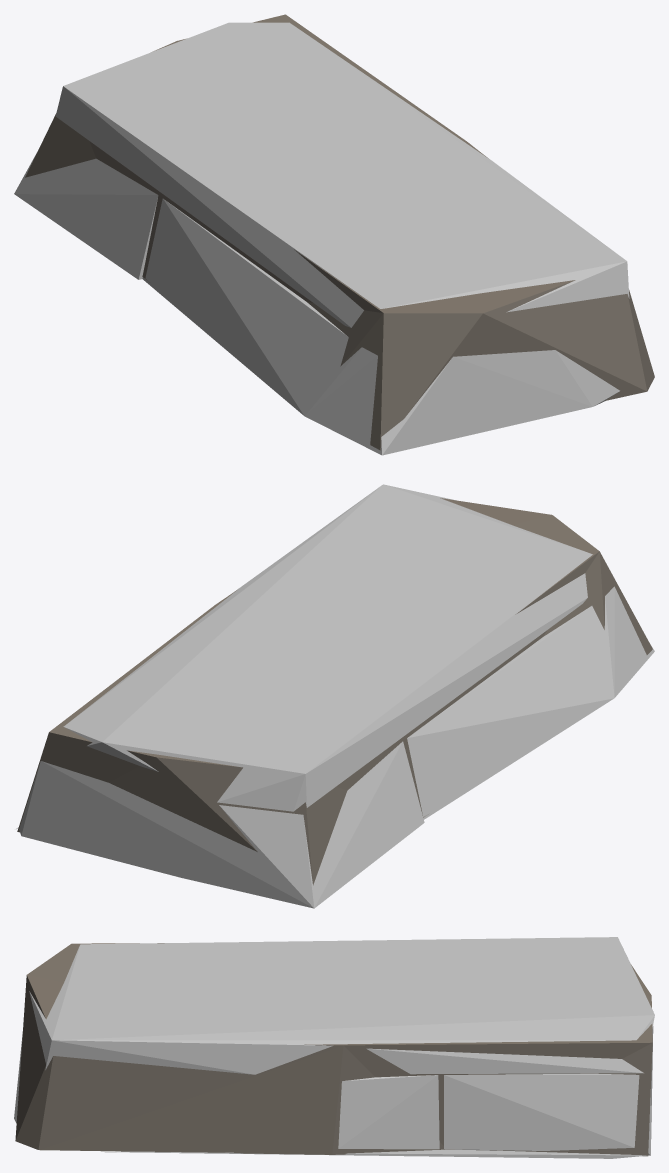
Rendered from SM_Env_Footpath_Stone_04.fbx.
3 views of the same model, one above another, from view 1: azimuth 30°, elevation 25°; view 2: azimuth 150°, elevation 25°; view 3: azimuth 270°, elevation 25° (orthographic). The views are drawn at different scales.
Visible parts, largest first — view 1: SM_Env_Footpath_Stone_04_ConvexHulls, SM_Env_Footpath_Stone_04; view 2: SM_Env_Footpath_Stone_04_ConvexHulls, SM_Env_Footpath_Stone_04; view 3: SM_Env_Footpath_Stone_04_ConvexHulls, SM_Env_Footpath_Stone_04.
Part boxes in pixels (x1,y1,x2,y2): SM_Env_Footpath_Stone_04_ConvexHulls: [14, 22, 629, 455]; SM_Env_Footpath_Stone_04: [25, 14, 654, 450]; SM_Env_Footpath_Stone_04_ConvexHulls: [15, 484, 654, 908]; SM_Env_Footpath_Stone_04: [17, 498, 652, 885]; SM_Env_Footpath_Stone_04_ConvexHulls: [14, 937, 654, 1158]; SM_Env_Footpath_Stone_04: [15, 943, 652, 1156].
Size of the model in its own units: 65.03 by 130 by 23.67.
Materials: 2 (1 with a texture image).
